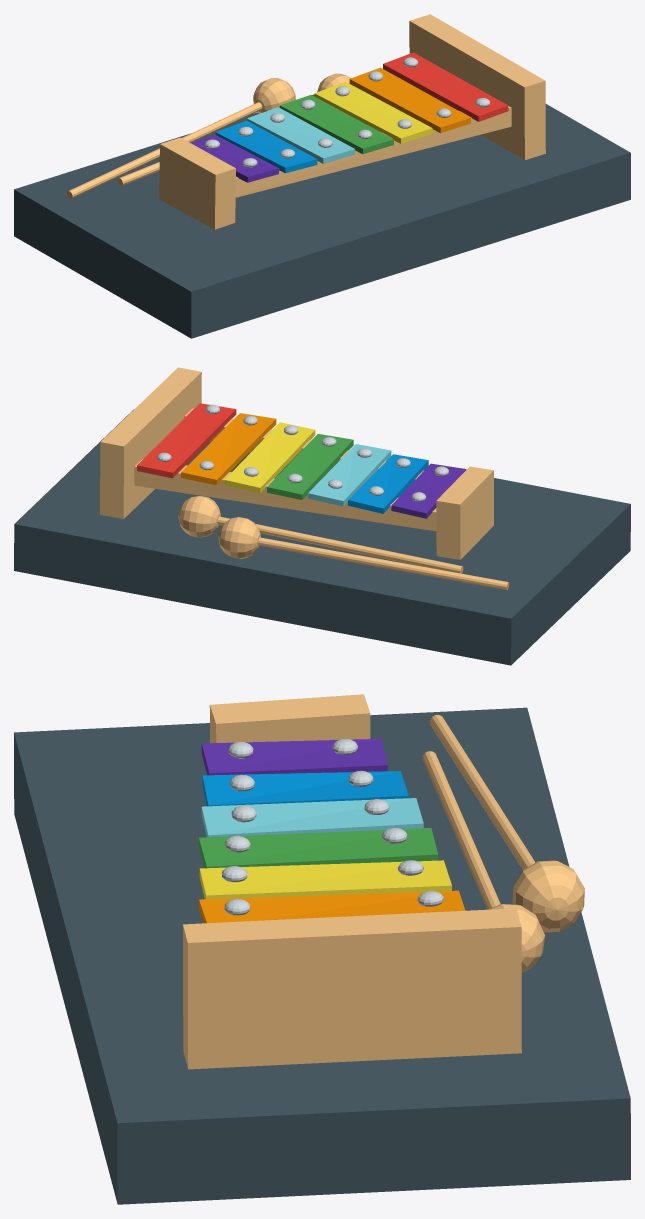
Rendered from xylophone.fbx.
3 views of the same model, one above another, from view 1: azimuth 30°, elevation 25°; view 2: azimuth 150°, elevation 25°; view 3: azimuth 270°, elevation 25° (orthographic). The views are drawn at different scales.
Visible parts, largest first — view 1: group_2018076649, group_1661938207, group_1893831560; view 2: group_2018076649, group_1661938207, group_1893831560; view 3: group_2018076649, group_1661938207, group_1893831560.
Boxes of the visible parts, bbox=[...] form: group_2018076649: bbox=[14, 14, 630, 338]; group_1661938207: bbox=[66, 78, 295, 198]; group_1893831560: bbox=[117, 73, 351, 185]; group_2018076649: bbox=[14, 367, 630, 665]; group_1661938207: bbox=[218, 517, 509, 590]; group_1893831560: bbox=[178, 496, 463, 573]; group_2018076649: bbox=[14, 694, 630, 1204]; group_1661938207: bbox=[430, 715, 584, 932]; group_1893831560: bbox=[422, 751, 544, 972].
Bounding box in the file's own units: 267 × 62.98 × 166.
